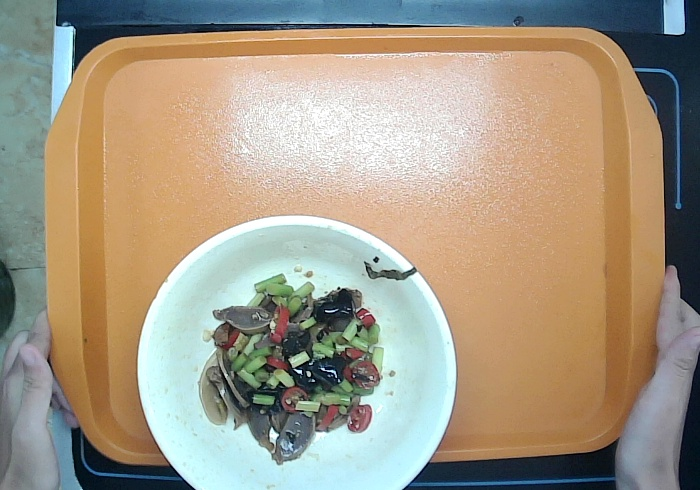ZNLD-Da_Tang_Wan: (135, 216, 454, 490)
